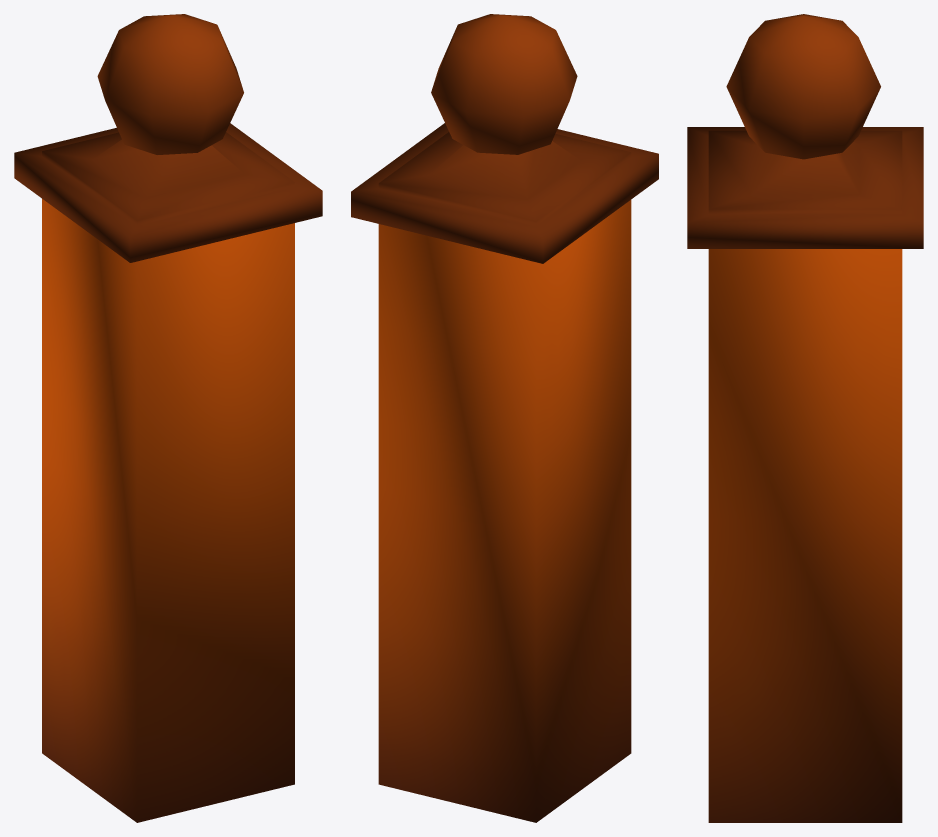
The model's file is Mureta.fbx.
3 views of the same model, side by side, from view 1: azimuth 30°, elevation 25°; view 2: azimuth 150°, elevation 25°; view 3: azimuth 270°, elevation 25° (orthographic). The views are drawn at different scales.
Parts seen in each view (by area): view 1: Mureta; view 2: Mureta; view 3: Mureta.
Boxes of the visible parts, x1=… form: Mureta: x1=14, y1=14, x2=322, y2=822; Mureta: x1=351, y1=14, x2=658, y2=822; Mureta: x1=687, y1=14, x2=923, y2=822.
Size of the model in its own units: 70.17 by 263 by 73.27.
1 material, 1 textured.
